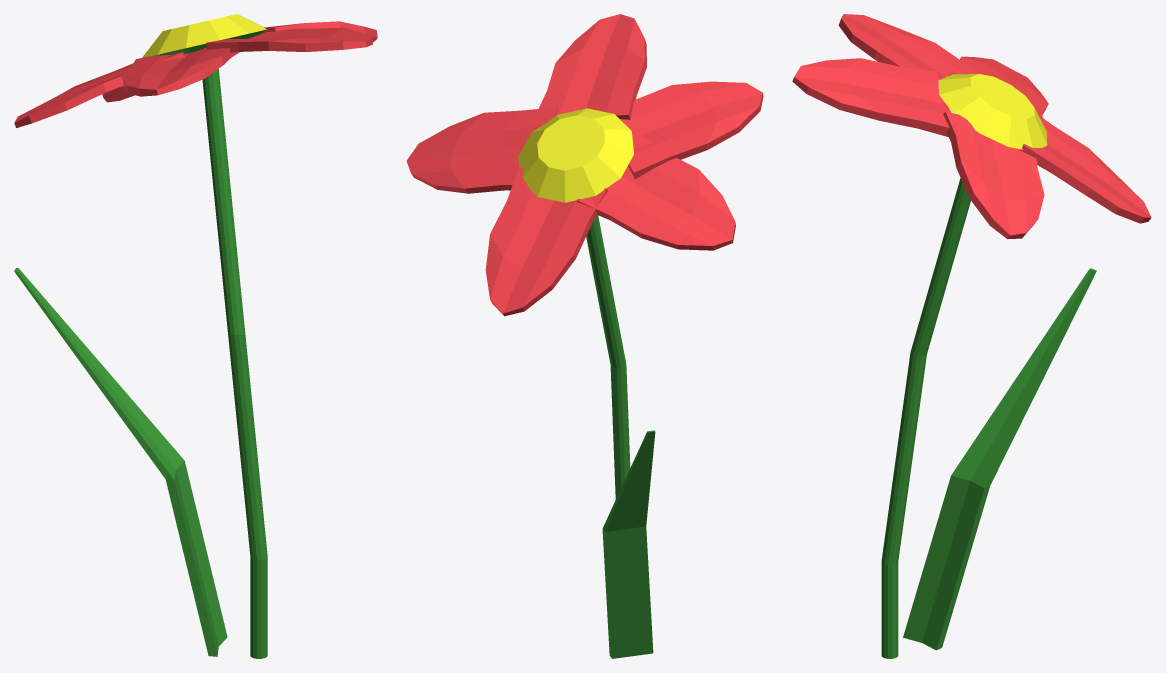
File: Flower2.3.glb
3 renders of one model, left to right at view 1: azimuth 30°, elevation 25°; view 2: azimuth 150°, elevation 25°; view 3: azimuth 270°, elevation 25°, orthographic. The views are drawn at different scales.
Parts seen in each view (by area): view 1: Flower2.3; view 2: Flower2.3; view 3: Flower2.3.
Part boxes in pixels (left/top/right/bottom): Flower2.3: left=14, top=14, right=377, bottom=658; Flower2.3: left=406, top=14, right=763, bottom=658; Flower2.3: left=792, top=14, right=1151, bottom=658.
Bounding box in the file's own units: 0.1394 × 0.2374 × 0.1275.
